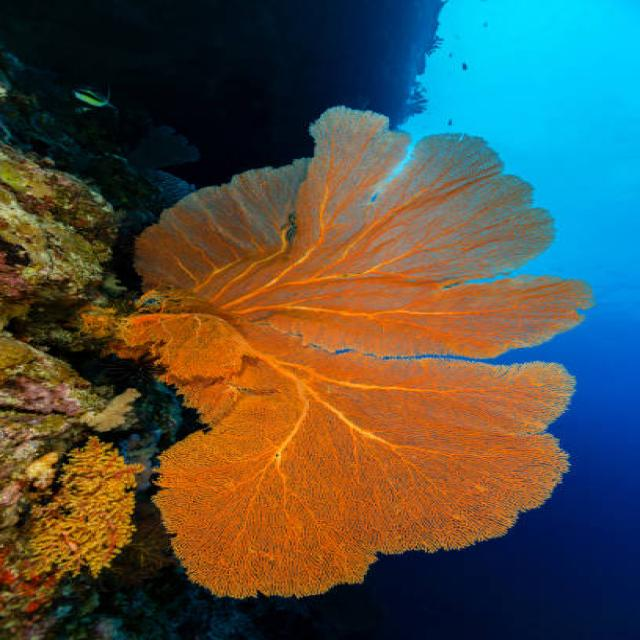Coral: (77, 104, 596, 601)
